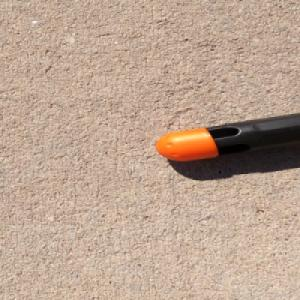PlasticPart: (154, 110, 300, 162)
